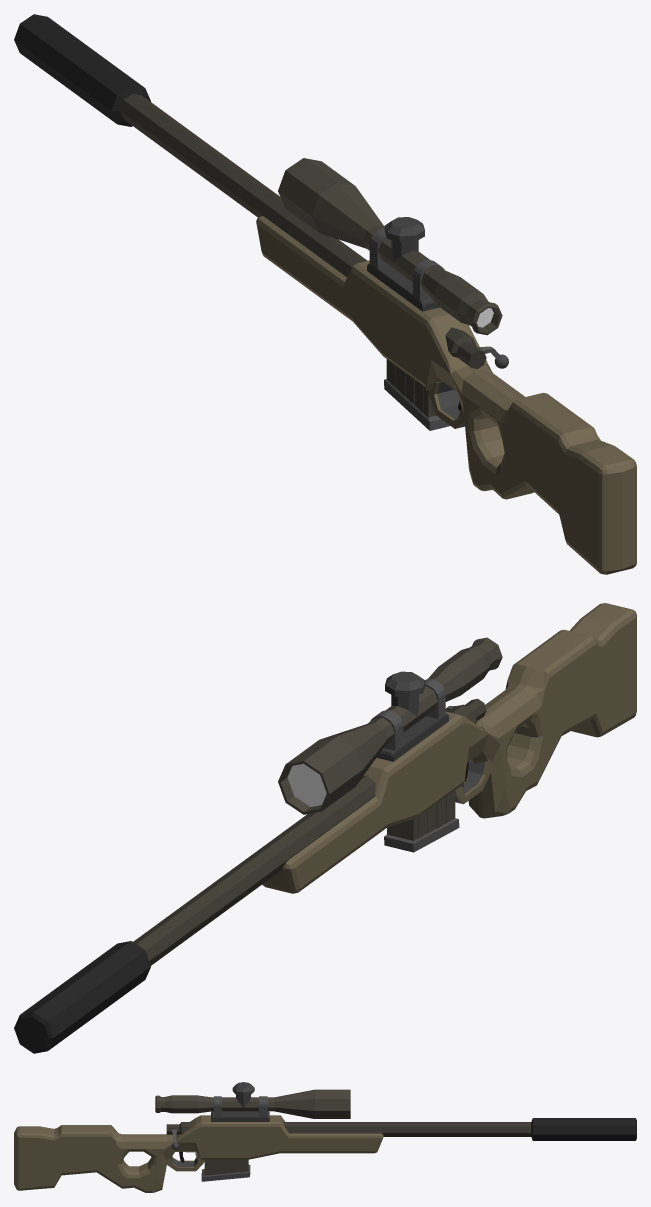
The model's file is awp sniper.fbx.
3 renders of one model, top to bottom at view 1: azimuth 30°, elevation 25°; view 2: azimuth 150°, elevation 25°; view 3: azimuth 270°, elevation 25°, orthographic. The views are drawn at different scales.
Parts seen in each view (by area): view 1: Cube, Cylinder.001, Cylinder, Cylinder.003, Cube.003, Cube.002, Cylinder.002, Plane; view 2: Cube, Cylinder, Cylinder.001, Cylinder.003, Cube.002, Cube.003, Cylinder.002, Cylinder.004, Plane; view 3: Cube, Cylinder, Cylinder.001, Cylinder.003, Cube.002, Cube.003, Plane, Cylinder.002.
Boxes of the visible parts, left/top/right/bottom form: Cube: left=256, top=216, right=636, bottom=574; Cylinder.001: left=278, top=158, right=502, bottom=335; Cylinder: left=120, top=94, right=486, bottom=368; Cylinder.003: left=14, top=14, right=150, bottom=126; Cube.003: left=367, top=228, right=444, bottom=311; Cube.002: left=384, top=359, right=449, bottom=430; Cylinder.002: left=384, top=217, right=424, bottom=261; Plane: left=428, top=381, right=464, bottom=428; Cube: left=262, top=603, right=636, bottom=893; Cylinder: left=133, top=698, right=486, bottom=965; Cylinder.001: left=278, top=637, right=502, bottom=814; Cylinder.003: left=14, top=941, right=150, bottom=1053; Cube.002: left=384, top=790, right=459, bottom=852; Cube.003: left=370, top=679, right=448, bottom=761; Cylinder.002: left=385, top=671, right=425, bottom=716; Cylinder.004: left=287, top=763, right=326, bottom=806; Plane: left=455, top=758, right=492, bottom=804; Cube: left=14, top=1115, right=383, bottom=1192; Cylinder: left=166, top=1122, right=531, bottom=1136; Cylinder.001: left=155, top=1089, right=350, bottom=1118; Cylinder.003: left=531, top=1118, right=636, bottom=1140; Cube.002: left=201, top=1159, right=250, bottom=1181; Cube.003: left=211, top=1096, right=269, bottom=1121; Plane: left=166, top=1152, right=205, bottom=1171; Cylinder.002: left=232, top=1082, right=254, bottom=1107.
Size of the model in its own units: 40.91 by 120 by 649.
